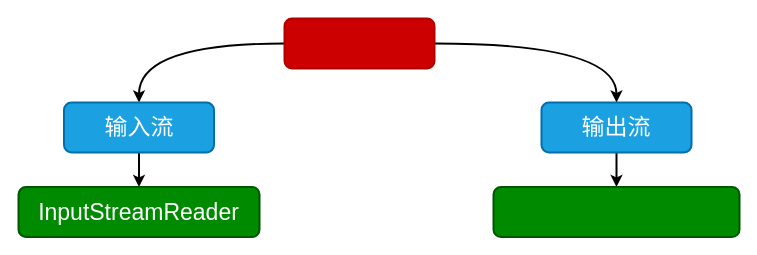
Image size: 757x255. Some labels were removed from this diagram. Each missing label, with the centre of its shape:
"OutputStreamWriter" goes at (x=616, y=212).
"转换流" goes at (x=359, y=43).
